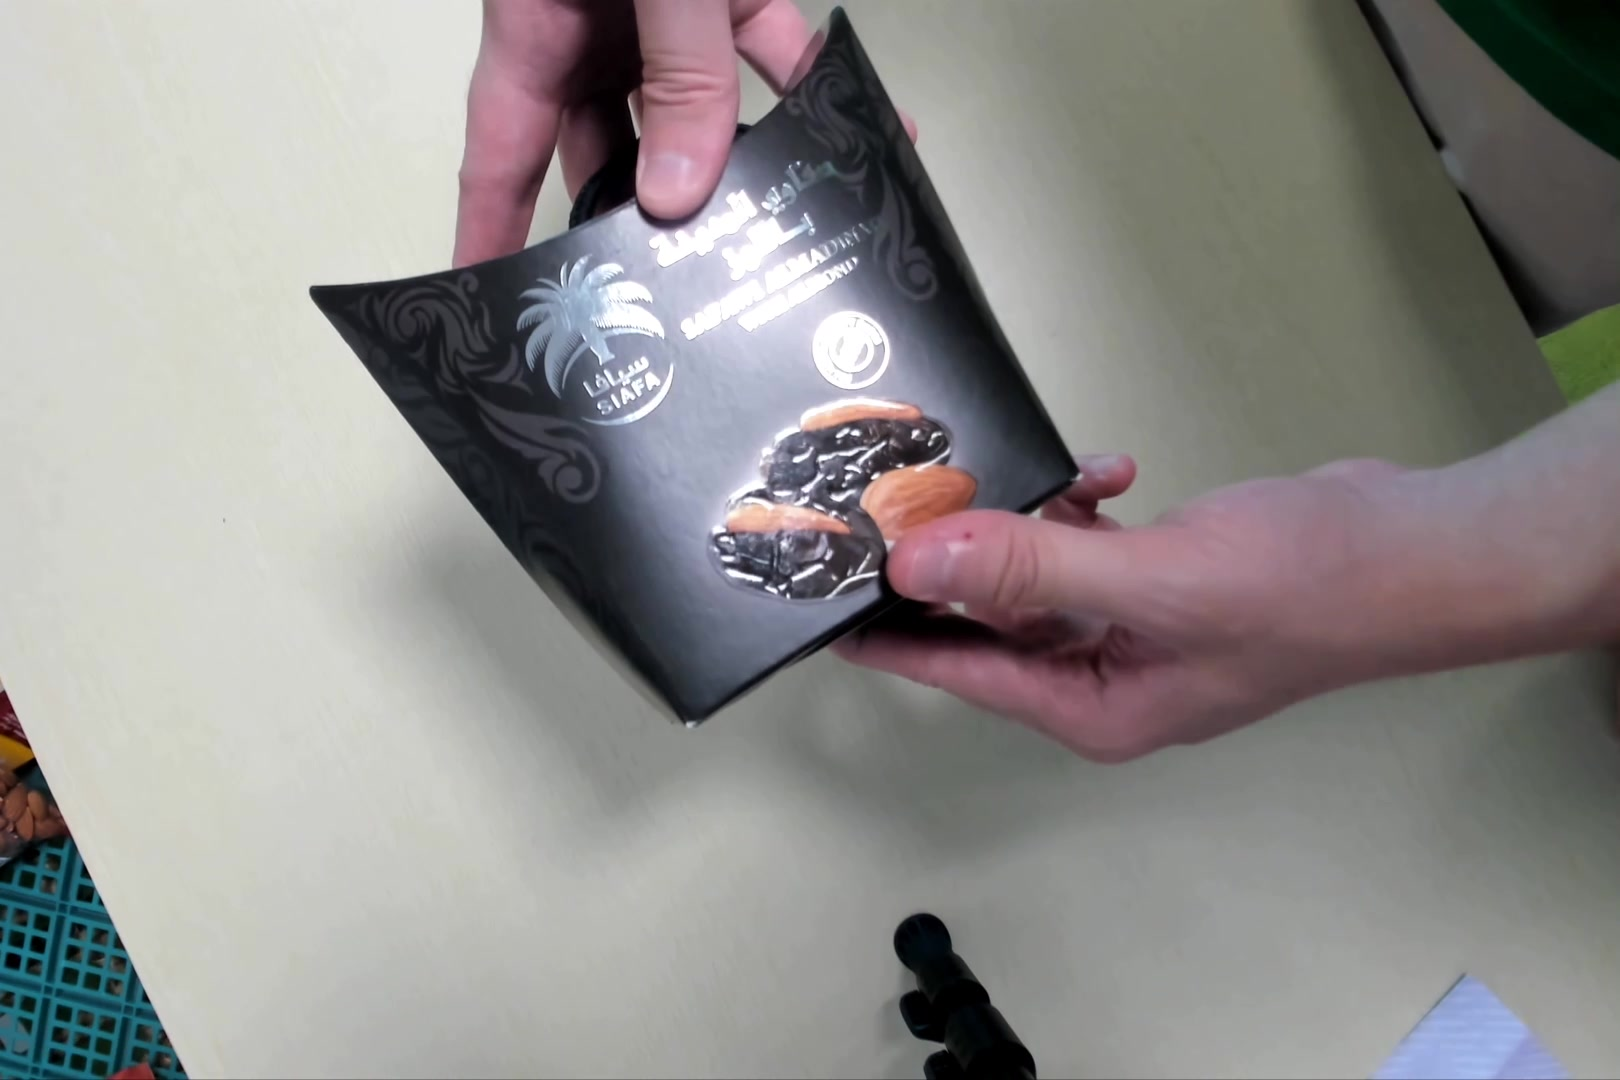DriedFood_100-199g_NonHalal_NonHealthy: (309, 19, 1073, 736)
